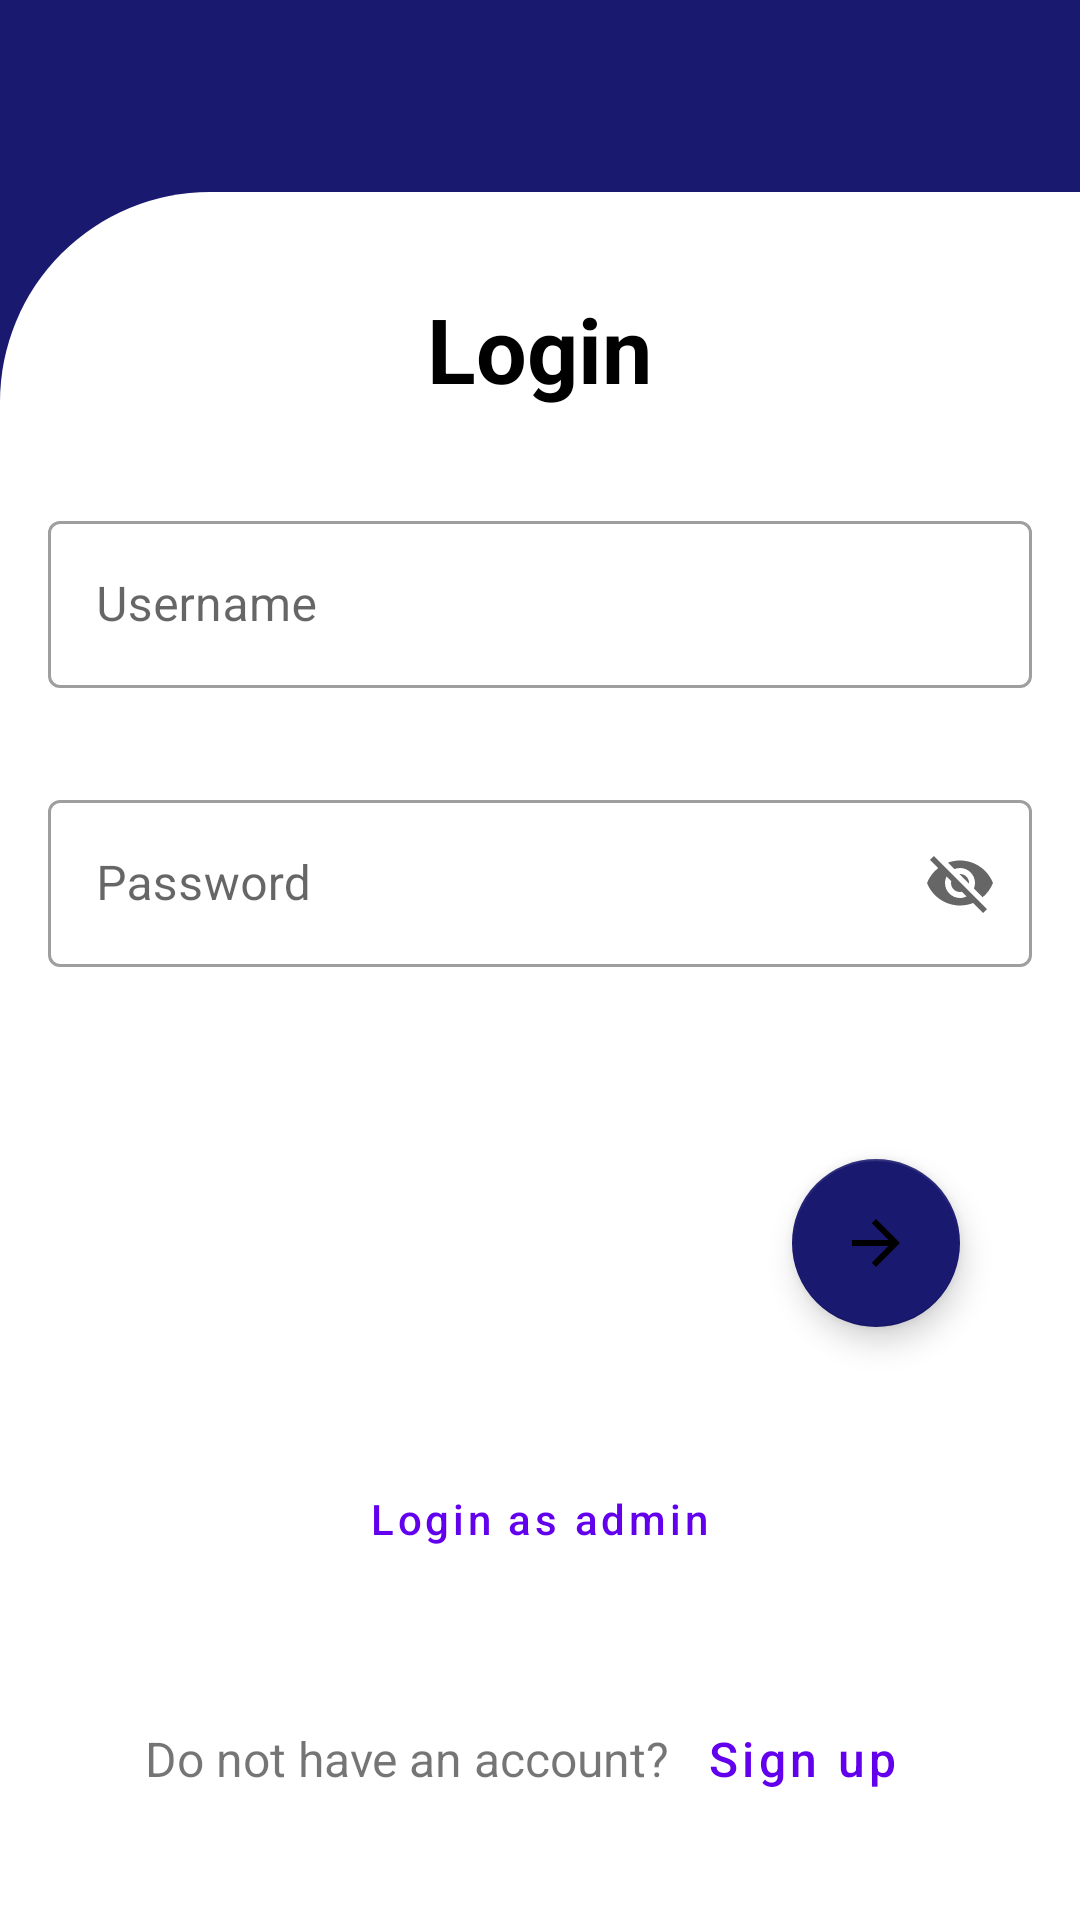

Where to tap for icons on this 1080px×1920px app screen, as (x,y):
arrow right: (876,1243)
